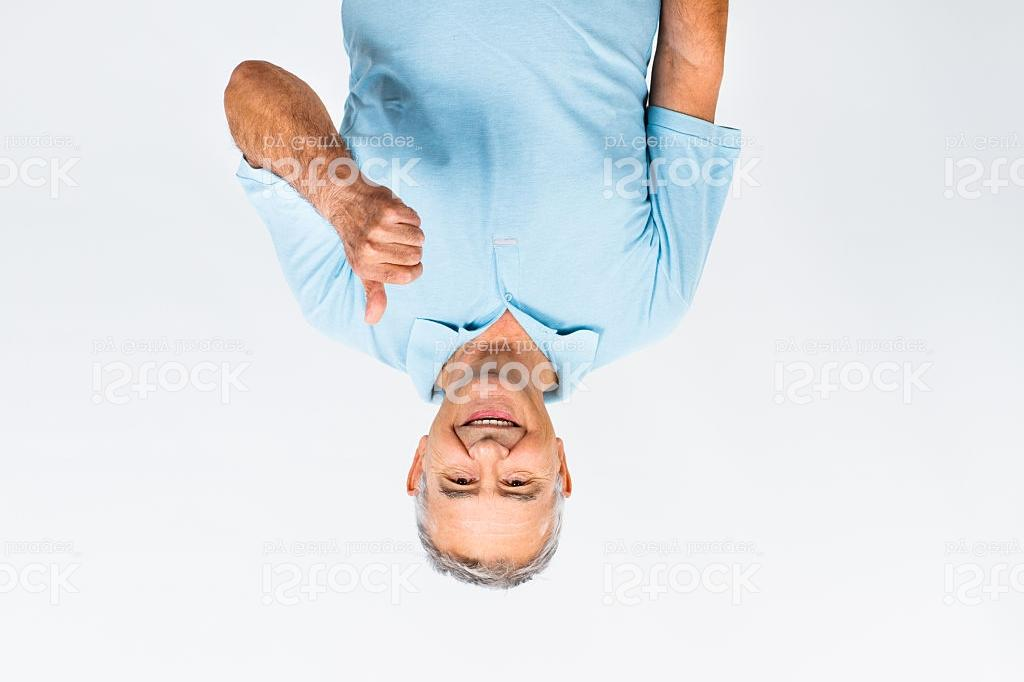thumbsdown: (343, 180, 427, 330)
